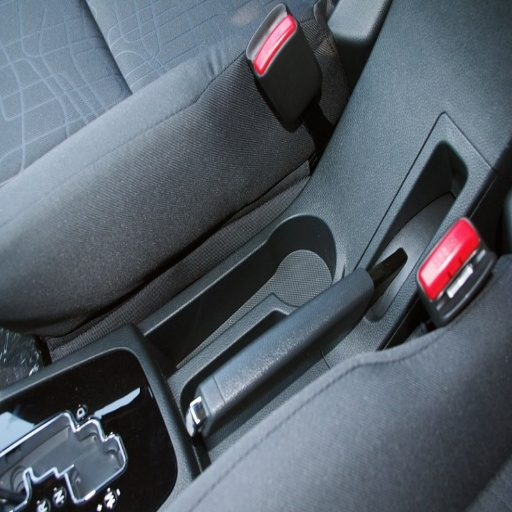back_right_light: (418, 234, 469, 296)
trunk: (341, 146, 418, 256)
